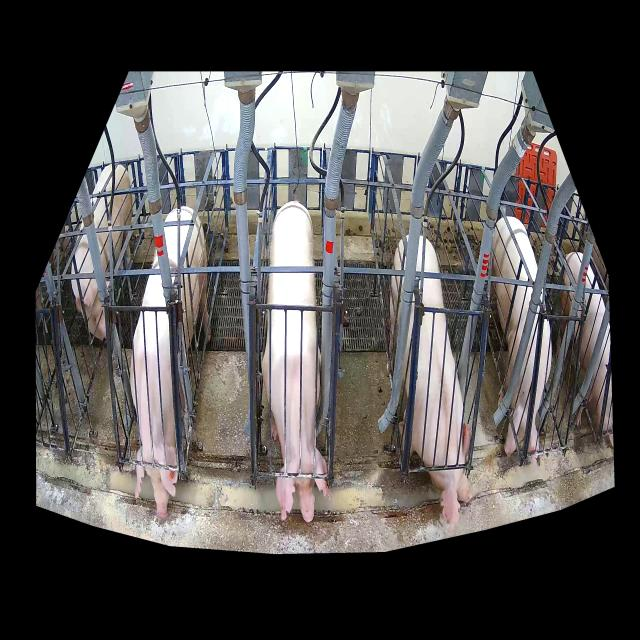pig: (390, 233, 482, 532), (130, 206, 212, 519), (262, 201, 333, 522), (490, 217, 552, 457), (558, 252, 614, 452), (71, 164, 133, 340)
